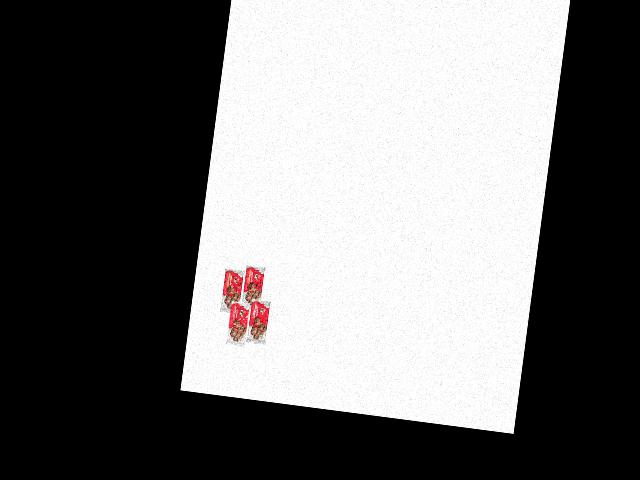chocolate: (217, 264, 248, 317)
